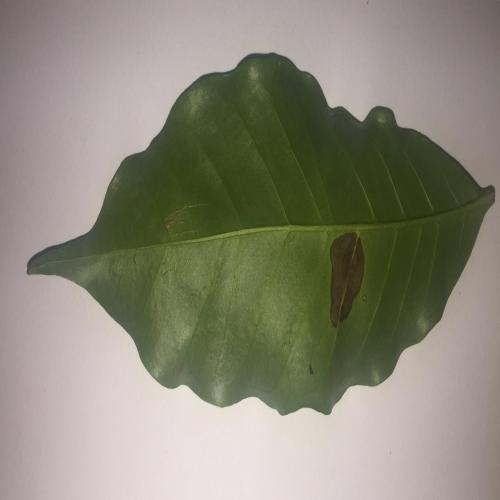leaf: (330, 232, 365, 328)
